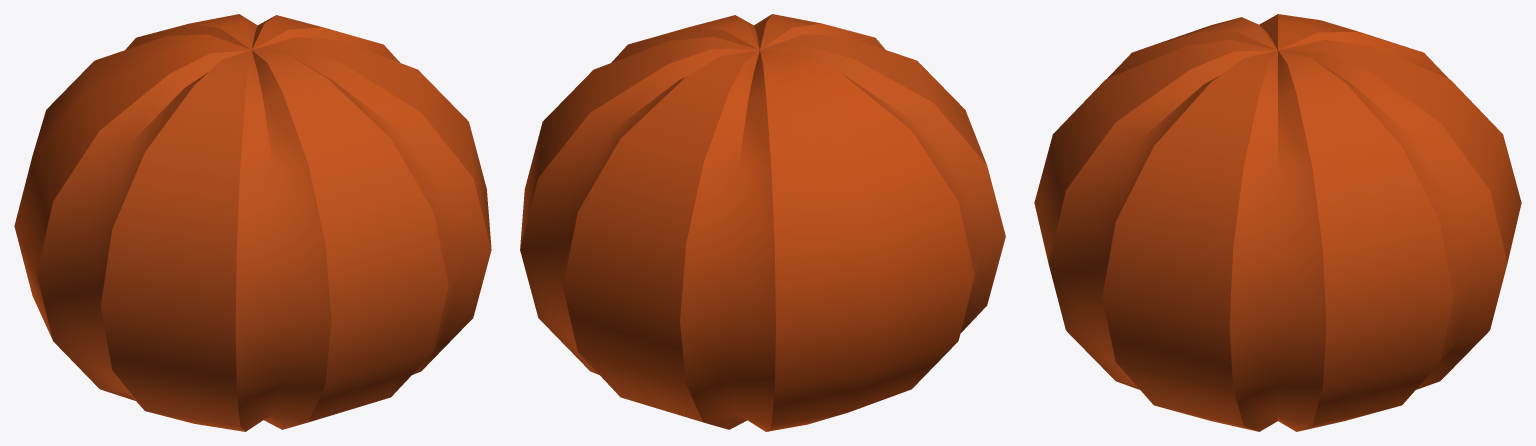
Rendered from pumpkin.fbx.
3 views of the same model, side by side, from view 1: azimuth 30°, elevation 25°; view 2: azimuth 150°, elevation 25°; view 3: azimuth 270°, elevation 25° (orthographic).
Parts seen in each view (by area): view 1: pumpkin; view 2: pumpkin; view 3: pumpkin.
Part boxes in pixels (x1=…): pumpkin: x1=14, y1=14, x2=491, y2=431; pumpkin: x1=520, y1=14, x2=1005, y2=431; pumpkin: x1=1034, y1=14, x2=1521, y2=431.
Size of the model in its own units: 198 by 160 by 196.
